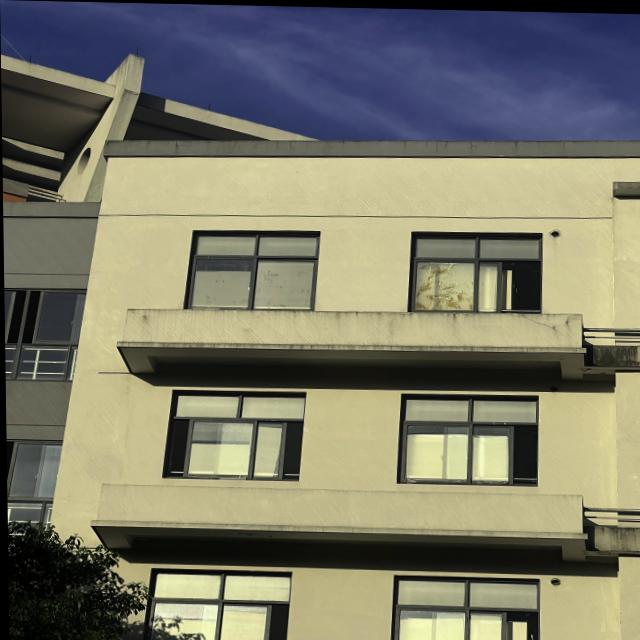damp: (124, 310, 511, 349), (593, 525, 640, 553)
